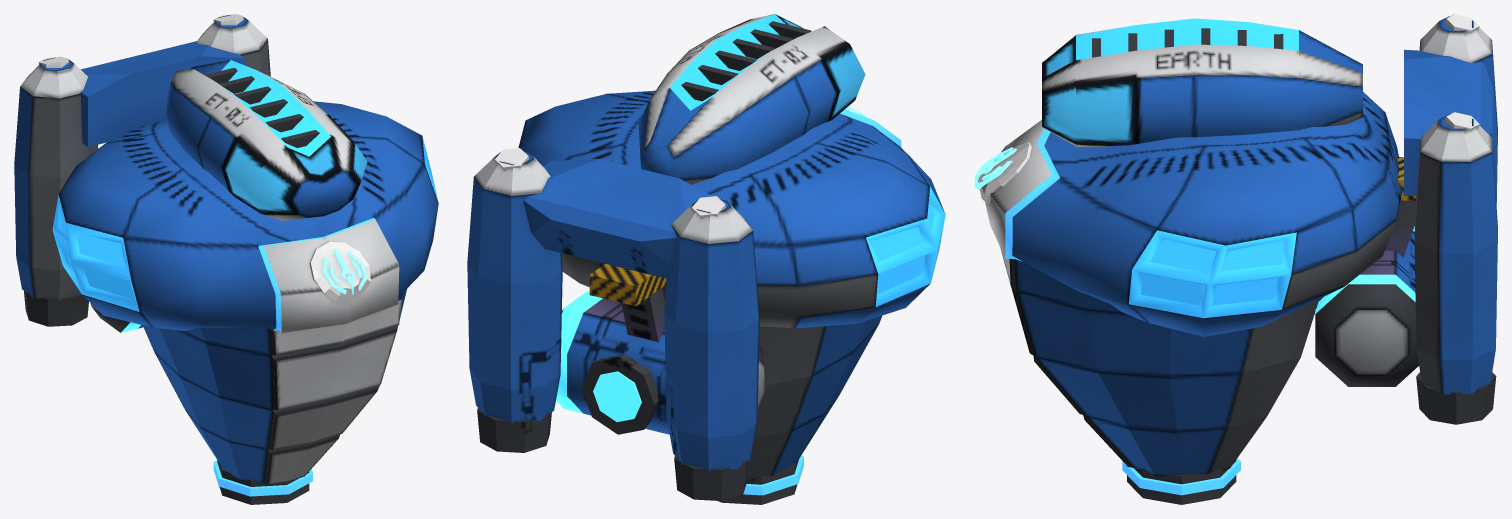
Rendered from JetPackTorsoX.glb.
3 renders of one model, left to right at view 1: azimuth 30°, elevation 25°; view 2: azimuth 150°, elevation 25°; view 3: azimuth 270°, elevation 25°, orthographic. The views are drawn at different scales.
Visible parts, largest first — view 1: JetPackTorsoX_Body, JetPackTorsoX_Head; view 2: JetPackTorsoX_Body, JetPackTorsoX_Head; view 3: JetPackTorsoX_Body, JetPackTorsoX_Head.
Boxes of the visible parts, box(x1,y1,x2,y2) form: JetPackTorsoX_Body: box(14, 14, 438, 504); JetPackTorsoX_Head: box(166, 60, 367, 221); JetPackTorsoX_Body: box(467, 90, 945, 504); JetPackTorsoX_Head: box(638, 14, 865, 184); JetPackTorsoX_Body: box(974, 14, 1497, 504); JetPackTorsoX_Head: box(1042, 18, 1362, 147).
Bounding box in the file's own units: 10.54 × 10.92 × 11.5.
Materials: 12 (8 with a texture image).
